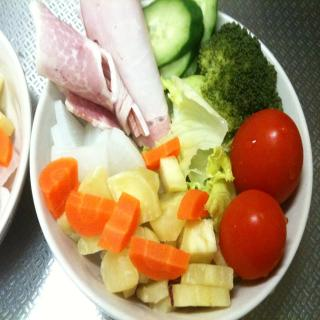tomato: (230, 109, 302, 202), (218, 186, 289, 280)
